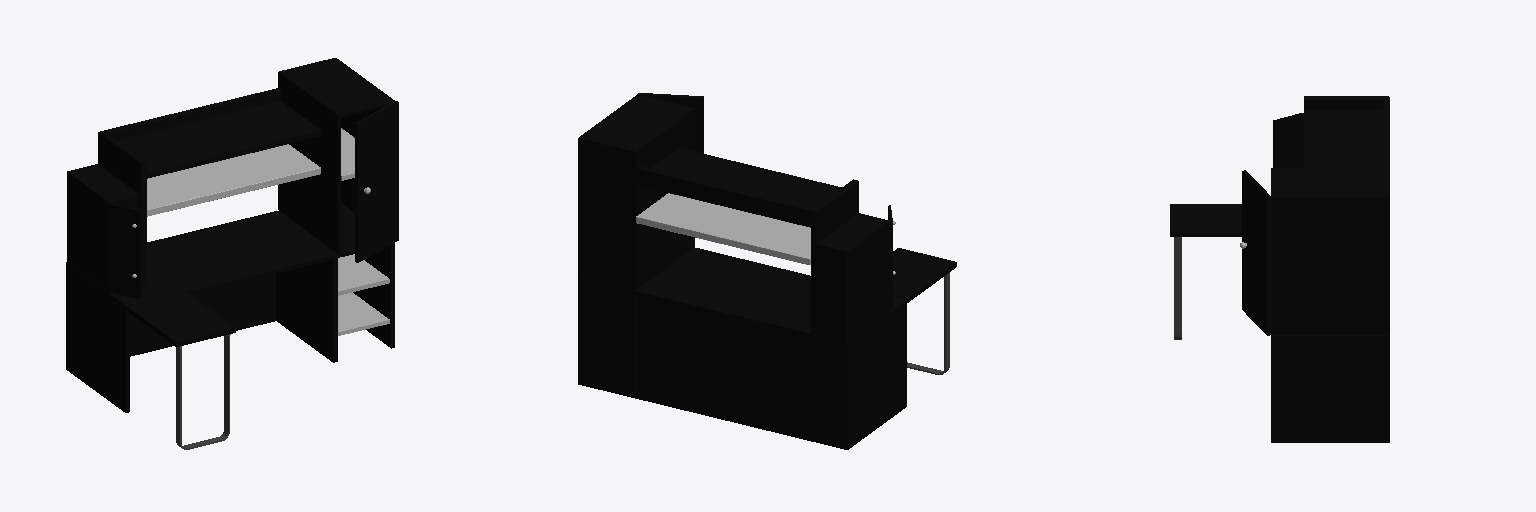
File: desk12.obj
3 renders of one model, left to right at view 1: azimuth 30°, elevation 25°; view 2: azimuth 150°, elevation 25°; view 3: azimuth 270°, elevation 25°, orthographic.
Visible parts, largest first — view 1: BasicDesk_JustTwoCabinets, RightCabinet, LeftCabinet; view 2: BasicDesk_JustTwoCabinets, RightCabinet; view 3: BasicDesk_JustTwoCabinets, RightCabinet, LeftCabinet.
Boxes of the visible parts, <box> form: BasicDesk_JustTwoCabinets: <box>66,58,394,449</box>; RightCabinet: <box>355,101,398,262</box>; LeftCabinet: <box>108,203,140,298</box>; BasicDesk_JustTwoCabinets: <box>578,94,956,449</box>; RightCabinet: <box>638,93,703,153</box>; BasicDesk_JustTwoCabinets: <box>1170,96,1389,442</box>; RightCabinet: <box>1240,170,1270,335</box>; LeftCabinet: <box>1273,113,1303,167</box>.
Bounding box in the file's own units: 3.5 × 3.08 × 2.45.